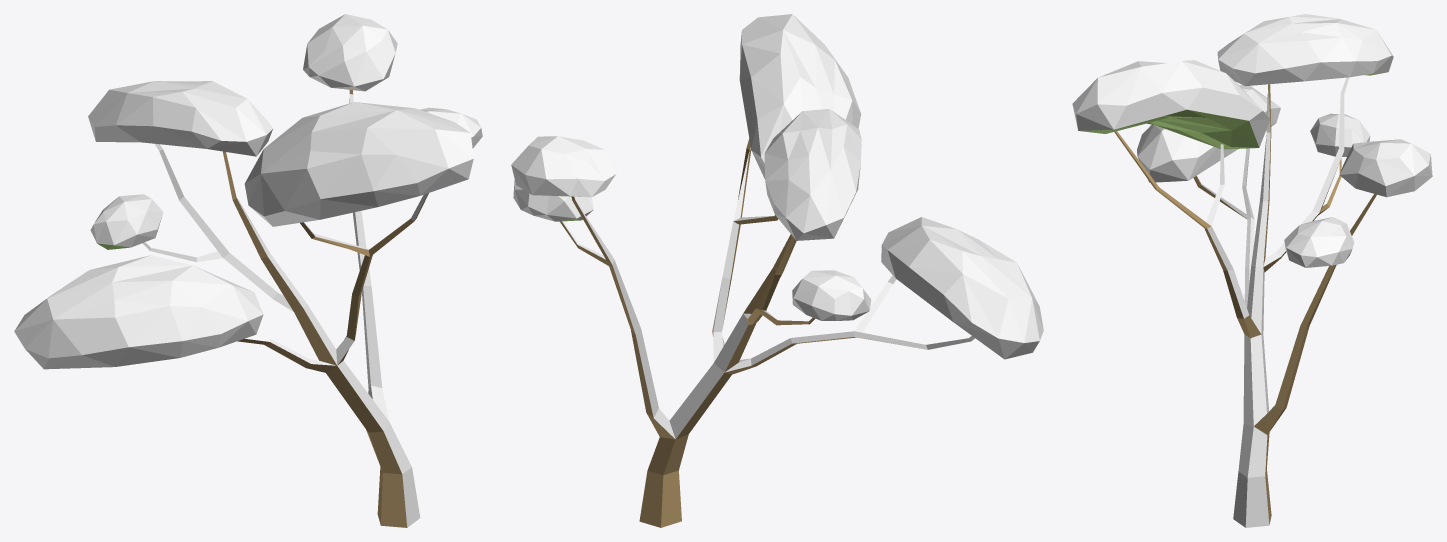
The model's file is Acacia_Tree_l_Snow_BT_03.fbx.
The picture shows the model from 3 angles, left to right: view 1: azimuth 30°, elevation 25°; view 2: azimuth 150°, elevation 25°; view 3: azimuth 270°, elevation 25°; orthographic projection. The views are drawn at different scales.
Visible parts, largest first — view 1: Acacia_Tree_l_Snow_BT_03; view 2: Acacia_Tree_l_Snow_BT_03; view 3: Acacia_Tree_l_Snow_BT_03.
Part boxes in pixels (bbox=[...]): Acacia_Tree_l_Snow_BT_03: bbox=[14, 14, 482, 527]; Acacia_Tree_l_Snow_BT_03: bbox=[511, 14, 1043, 527]; Acacia_Tree_l_Snow_BT_03: bbox=[1072, 14, 1432, 527].
Size of the model in its own units: 1279 by 1161 by 891.
